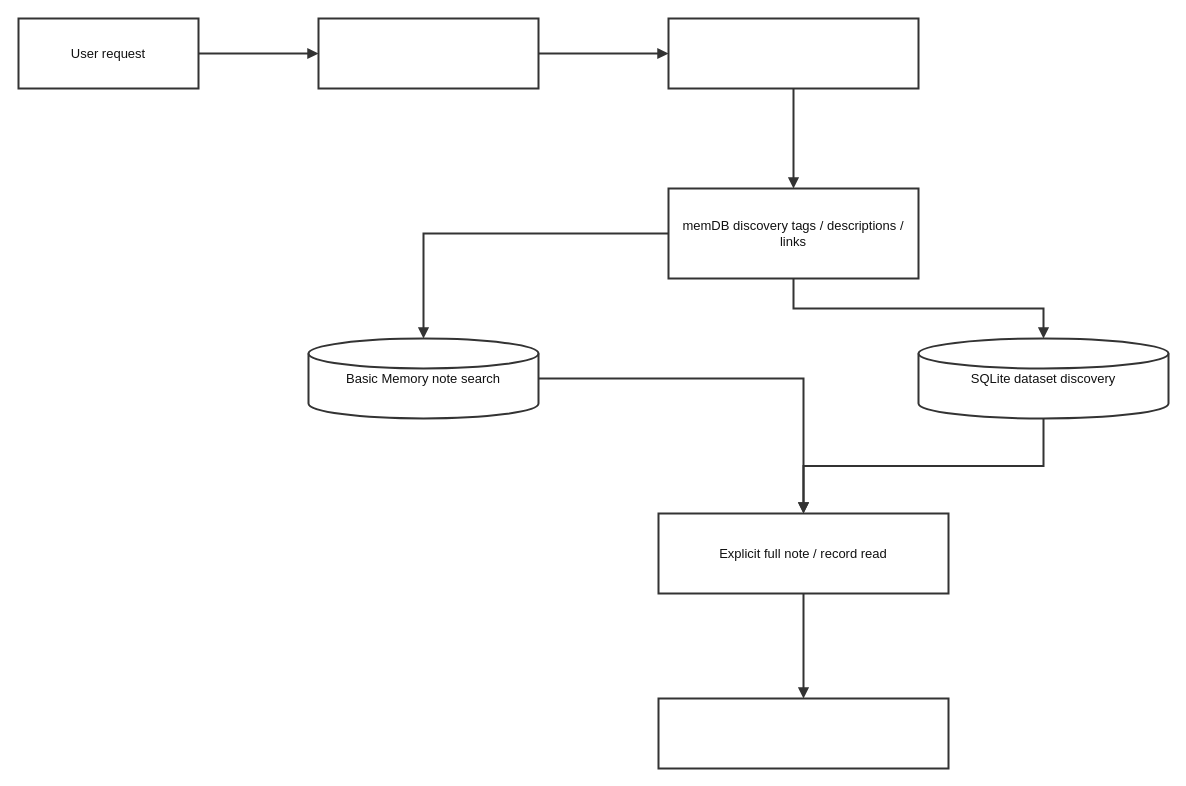
Image size: 1186x786. Some labels were removed from this diagram. Here are the shapes that lost their labels. From the top down, the centre of each, then its label:
point 428,53: Chat model (built-in pointer)
point 793,53: Explicit context_lookup
point 803,733: Answer using verified context
